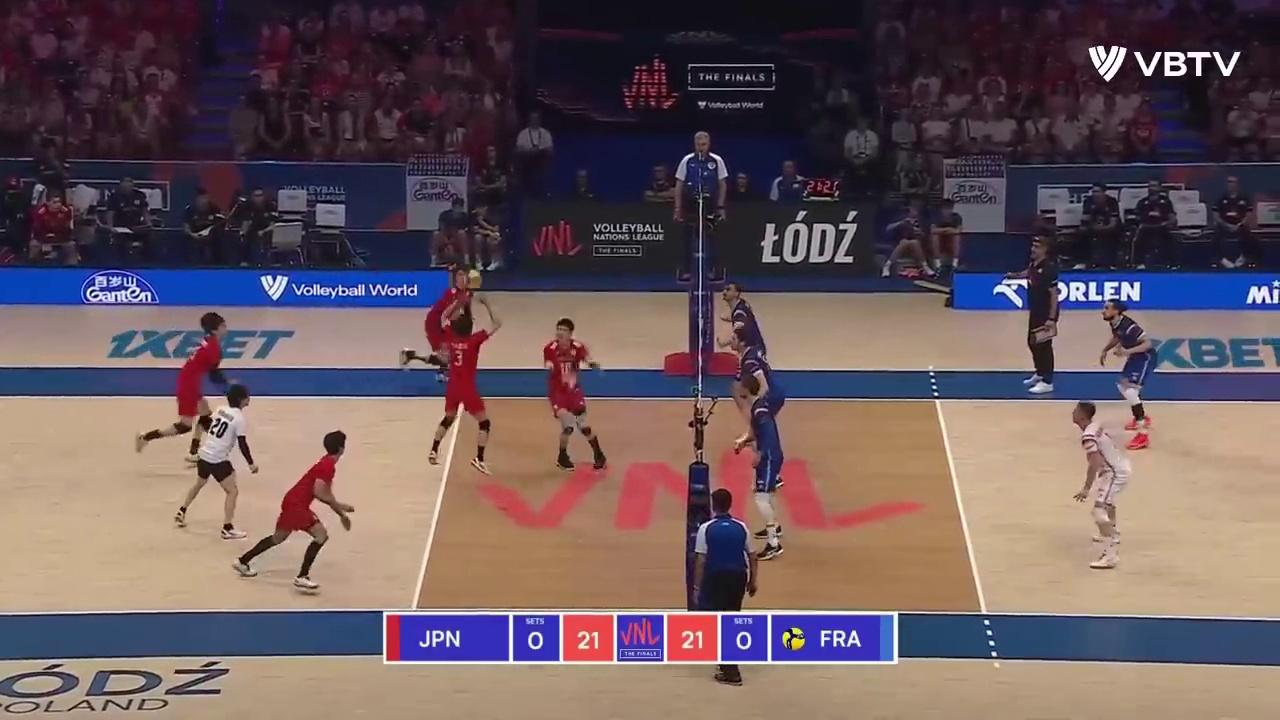ball: (467, 270, 481, 290)
